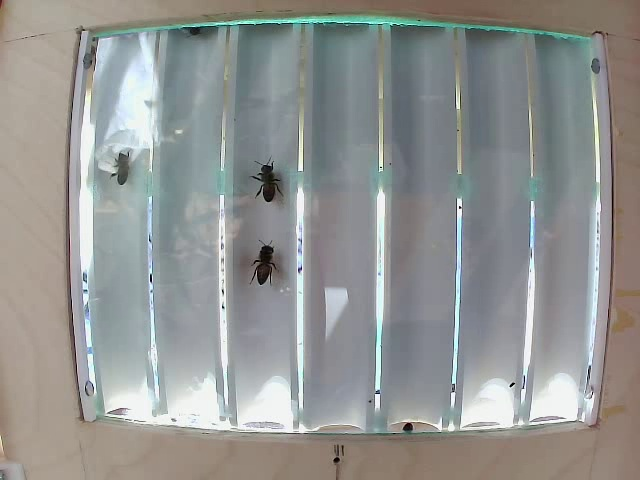bee: (240, 241, 284, 290), (248, 163, 284, 199), (105, 154, 139, 186)
